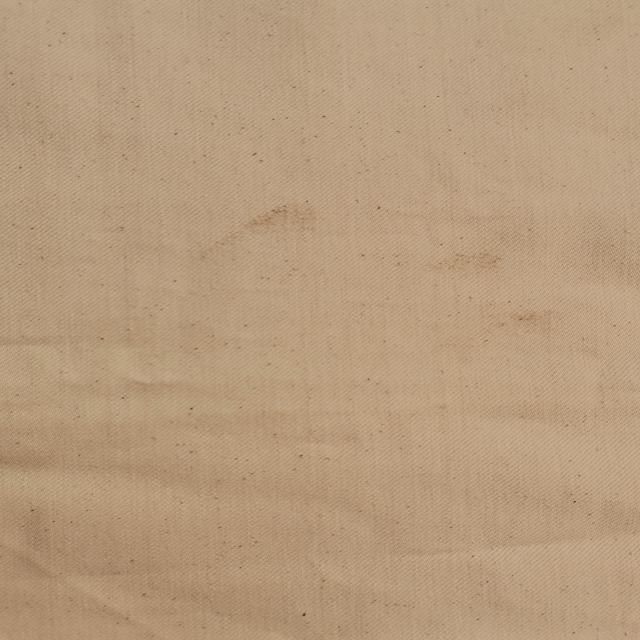taaaches: (210, 200, 325, 254), (482, 305, 569, 340), (428, 252, 524, 281)
